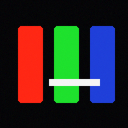3 line_h: (49, 79, 99, 85)
